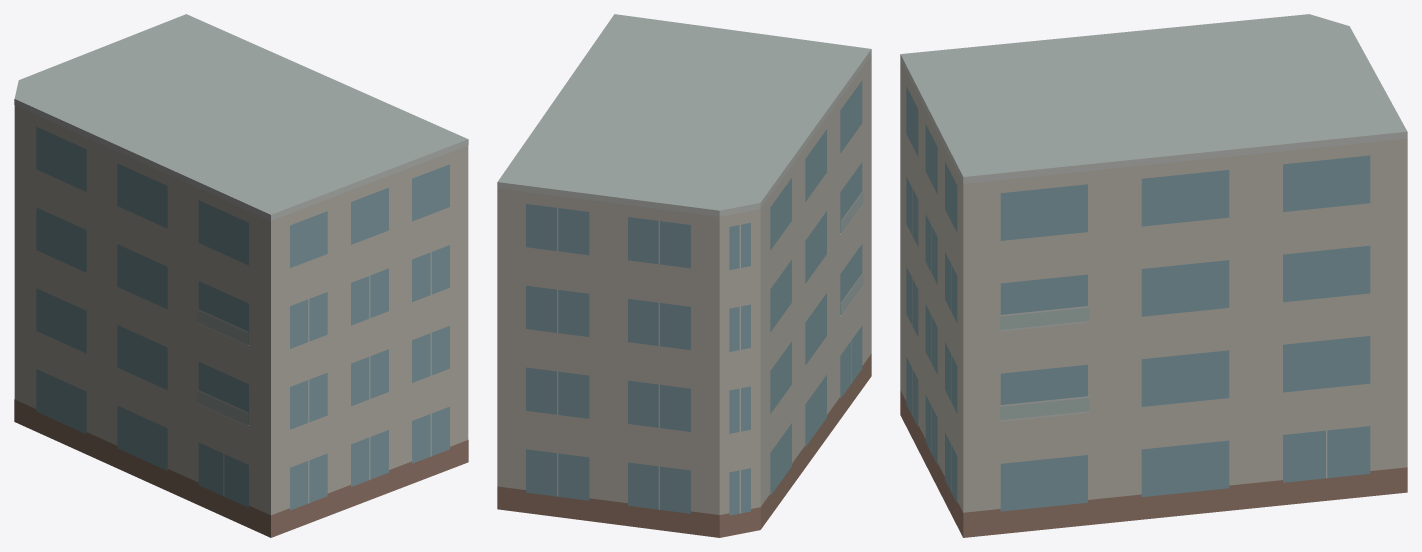
File: survey-upis-32839499.glb
3 renders of one model, left to right at view 1: azimuth 30°, elevation 25°; view 2: azimuth 150°, elevation 25°; view 3: azimuth 270°, elevation 25°, orthographic. The views are drawn at different scales.
Parts seen in each view (by area): view 1: survey-upis-32839499.tmp; view 2: survey-upis-32839499.tmp; view 3: survey-upis-32839499.tmp.
Boxes of the visible parts, box(x1,y1,x2,y2) form: survey-upis-32839499.tmp: box(14, 14, 468, 537); survey-upis-32839499.tmp: box(497, 14, 871, 537); survey-upis-32839499.tmp: box(900, 14, 1407, 537).
Size of the model in its own units: 12.61 by 13 by 16.57.
